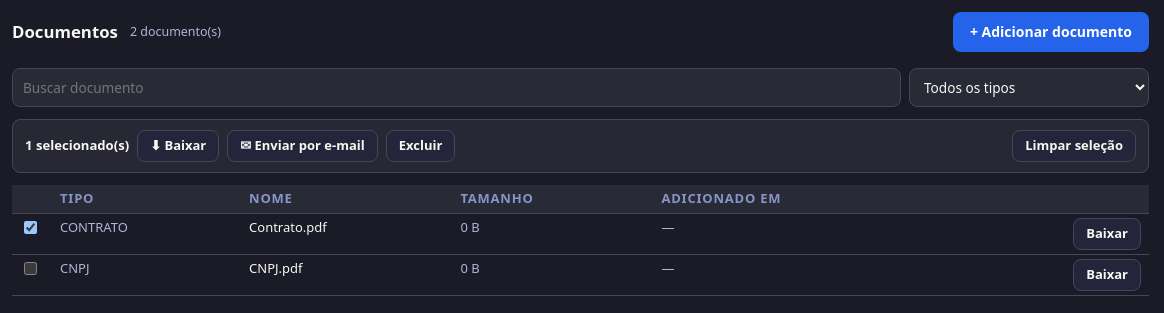
Test case: busca e tipo recortam documentos sem perder seleção existente
Type "CNPJ" into the field labelled "Buscar documento" at (456, 88), box [12, 68, 901, 107]
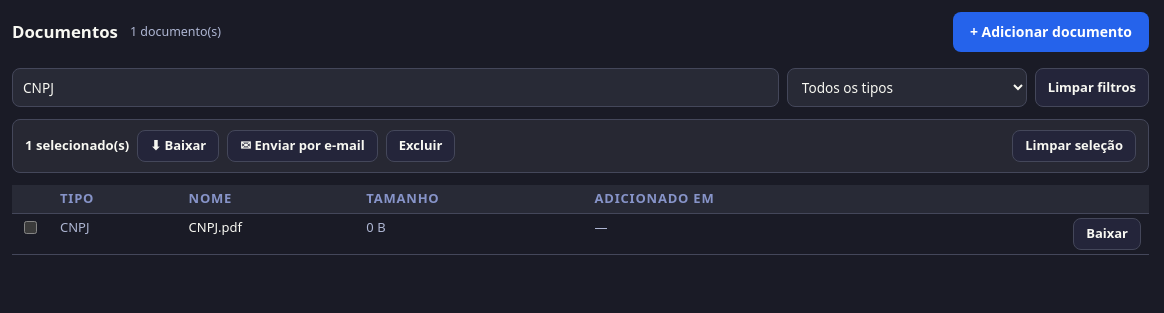
Expected: the button with aria-label "Baixar CNPJ.pdf" is shown, [1073, 218, 1141, 250]
Select "CONTRATO" in the dropdown named "Tipo de documento" at (907, 88), box [787, 68, 1027, 107]
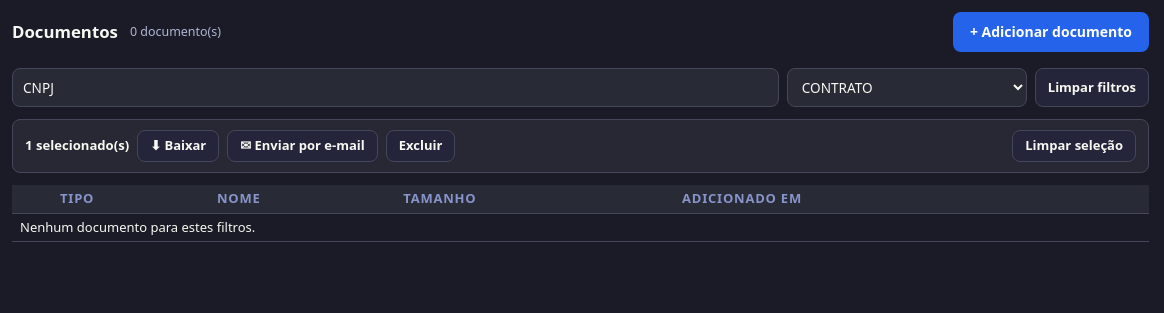
Now the text "Nenhum documento para estes filtros." is shown, box [12, 213, 1149, 242]
Click the button "Limpar filtros" at (1092, 88), box [1035, 68, 1149, 107]
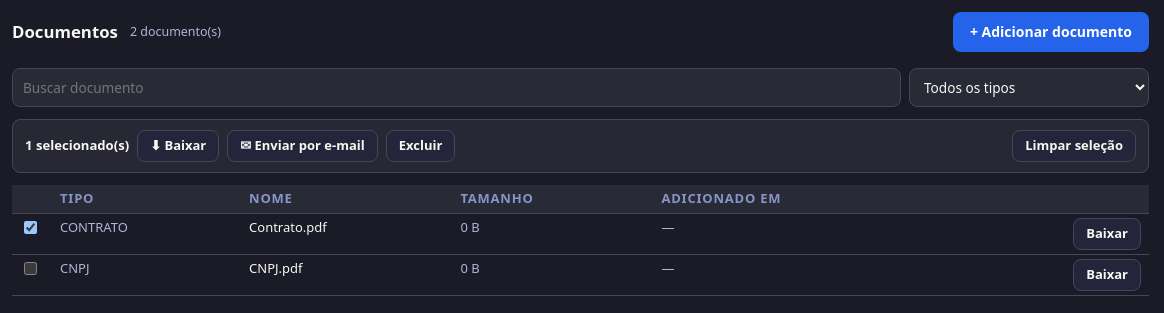
Now the checkbox named "Selecionar Contrato.pdf" is checked, box [24, 220, 37, 234]
